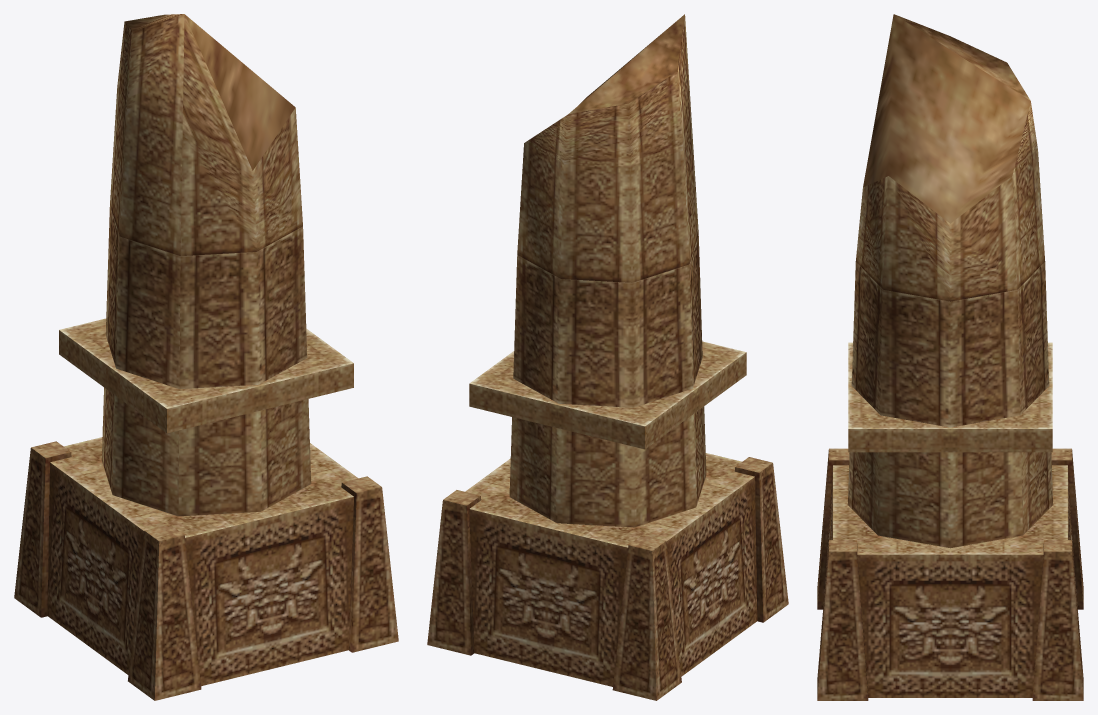
File: general_obj_bigtoewr05.glb
3 views of the same model, side by side, from view 1: azimuth 30°, elevation 25°; view 2: azimuth 150°, elevation 25°; view 3: azimuth 270°, elevation 25° (orthographic). The views are drawn at different scales.
Parts seen in each view (by area): view 1: Sphere01; view 2: Sphere01; view 3: Sphere01.
Boxes of the visible parts, bbox=[...] form: Sphere01: bbox=[14, 14, 398, 700]; Sphere01: bbox=[427, 14, 788, 700]; Sphere01: bbox=[817, 14, 1083, 700].
Bounding box in the file's own units: 5.22 × 13.09 × 5.21.
1 material, 1 textured.
